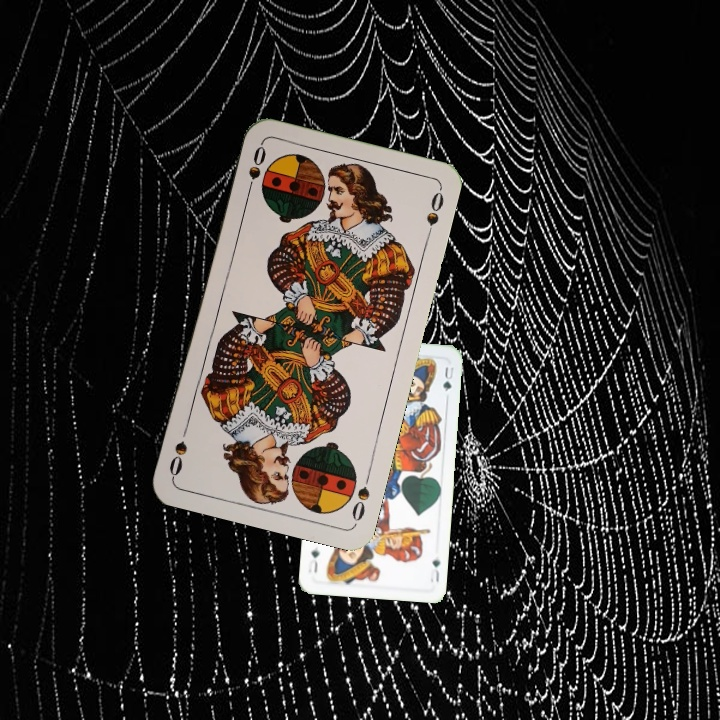GU: (426, 555, 442, 585)
SO: (242, 141, 269, 199), (347, 467, 374, 524)
